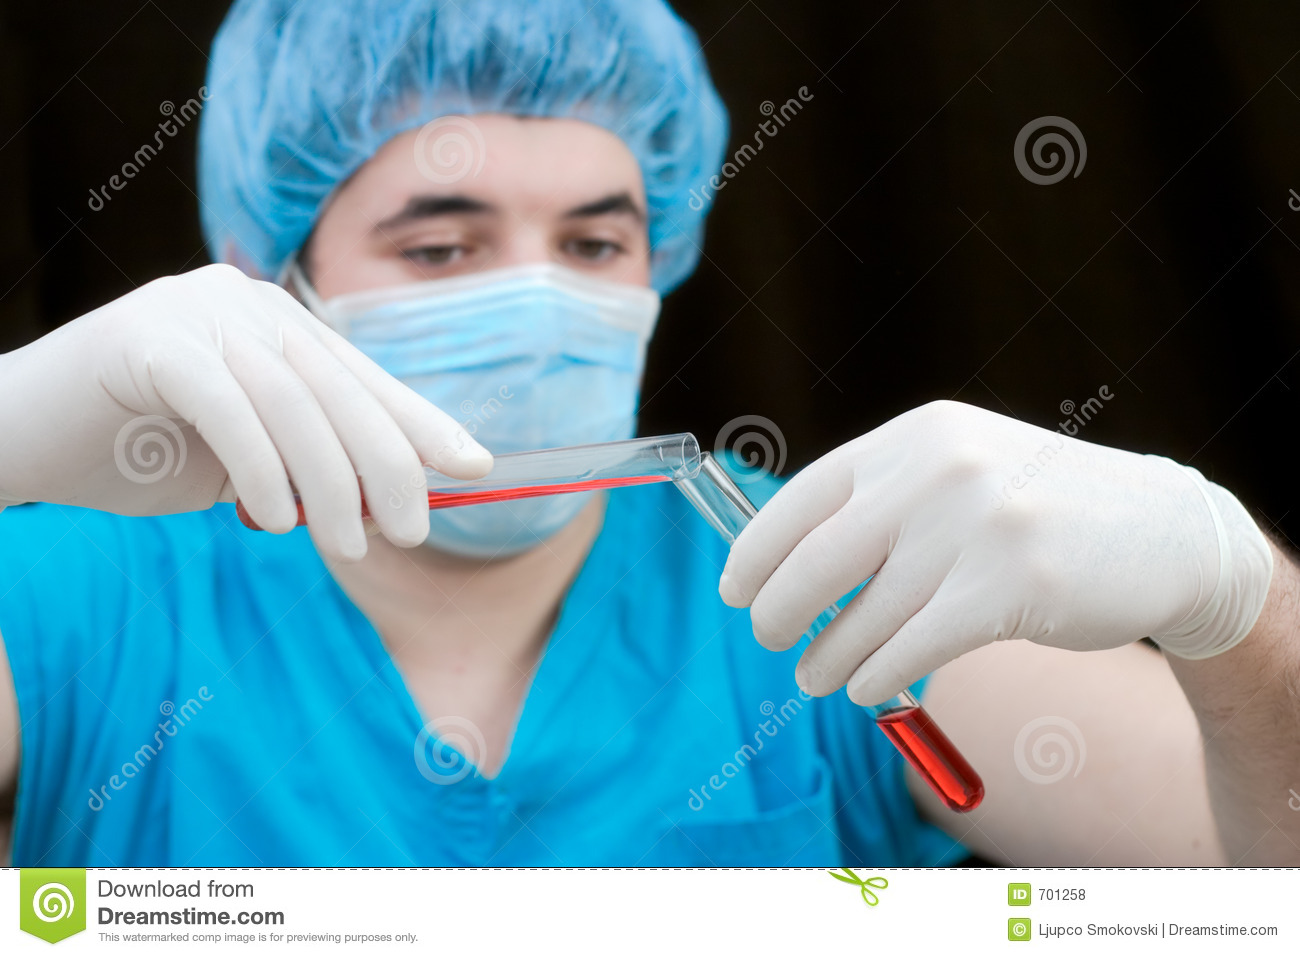mask: (329, 289, 678, 539)
